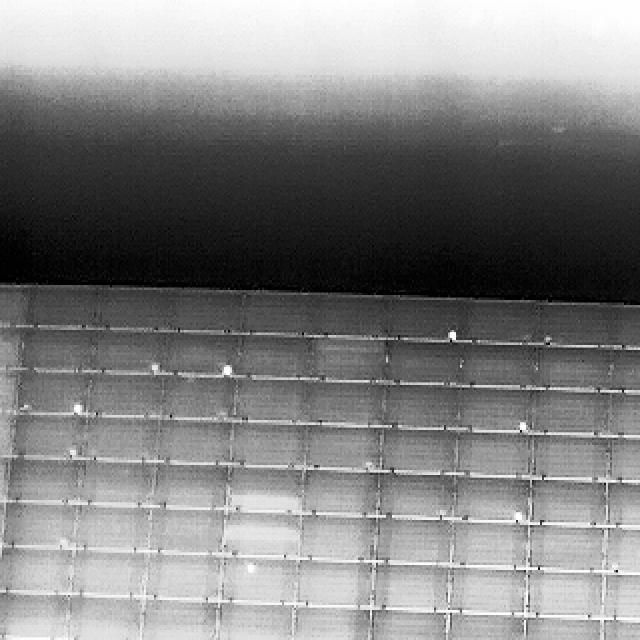Hotspots: (67, 392, 86, 415), (243, 557, 261, 581), (53, 532, 72, 552), (218, 360, 238, 377), (506, 506, 527, 522), (66, 443, 82, 463), (148, 357, 163, 378), (514, 416, 530, 435), (448, 327, 460, 343)
PV-modules: (455, 302, 546, 348), (530, 391, 611, 439), (70, 548, 147, 598), (447, 567, 527, 615), (528, 433, 608, 481), (371, 563, 449, 612), (530, 478, 606, 528), (299, 558, 375, 608), (1, 458, 80, 506), (222, 514, 301, 562), (301, 470, 378, 519), (540, 304, 622, 350), (536, 345, 618, 391), (18, 328, 98, 375), (298, 518, 376, 566), (527, 527, 605, 575), (384, 339, 462, 387), (451, 522, 532, 568), (88, 371, 167, 418), (374, 520, 451, 568), (228, 467, 305, 515), (456, 344, 538, 389), (309, 292, 389, 338), (230, 422, 308, 469), (221, 557, 299, 604), (168, 285, 246, 332), (1, 547, 74, 597), (152, 510, 228, 558), (156, 463, 232, 511), (75, 504, 152, 551), (231, 336, 313, 380), (524, 570, 602, 616), (157, 419, 233, 466), (2, 501, 78, 548), (378, 427, 454, 474), (21, 284, 104, 327), (376, 475, 455, 520), (455, 388, 530, 435), (88, 414, 161, 462), (458, 428, 534, 474), (311, 382, 387, 428), (78, 461, 152, 508), (13, 367, 87, 414), (232, 381, 309, 426), (306, 424, 381, 470), (68, 595, 144, 640), (146, 554, 222, 599), (7, 412, 81, 458), (457, 475, 532, 520), (315, 336, 388, 382), (140, 597, 218, 640), (243, 288, 313, 335), (384, 386, 457, 431), (168, 332, 240, 376), (166, 376, 234, 422), (94, 330, 166, 373), (2, 595, 70, 640), (388, 296, 456, 341), (212, 602, 292, 640), (103, 285, 171, 328), (294, 605, 370, 640), (368, 610, 448, 640), (444, 612, 524, 640), (600, 528, 640, 578), (522, 615, 602, 640), (600, 572, 640, 620), (602, 482, 640, 530), (606, 435, 640, 483), (608, 395, 640, 437), (614, 345, 640, 390), (620, 305, 640, 350), (602, 617, 640, 640), (0, 285, 21, 325), (0, 327, 19, 371), (0, 365, 17, 412), (2, 635, 64, 640)
